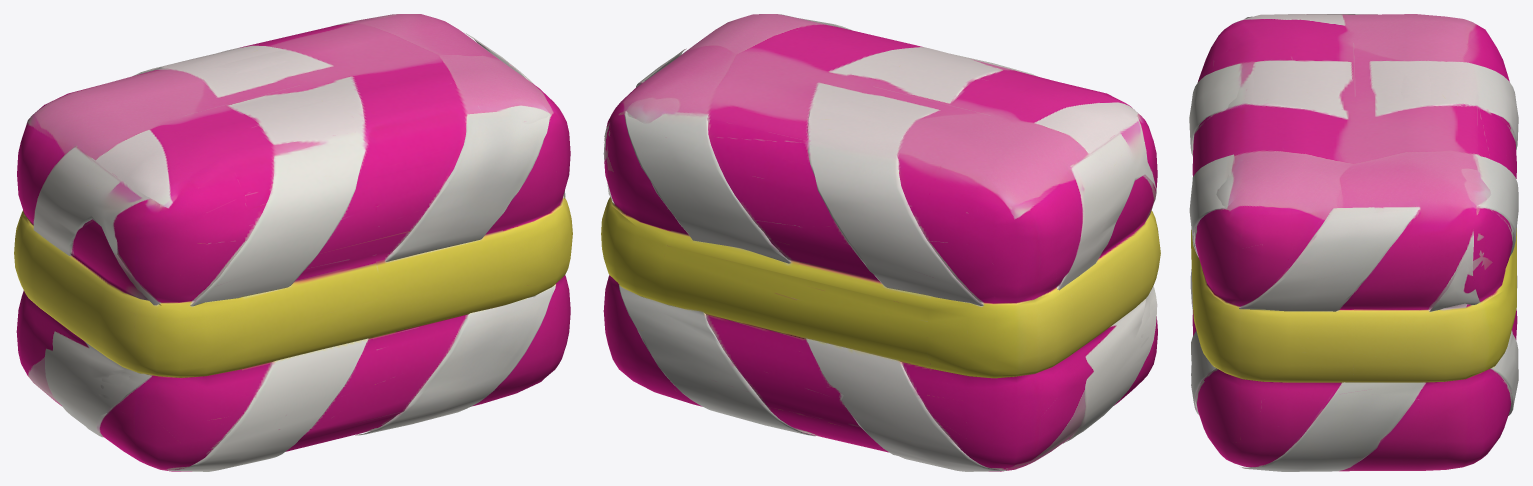
Rendered from foam_block.glb.
The picture shows the model from 3 angles, left to right: view 1: azimuth 30°, elevation 25°; view 2: azimuth 150°, elevation 25°; view 3: azimuth 270°, elevation 25°; orthographic projection. The views are drawn at different scales.
Size of the model in its own units: 0.9565 by 0.6118 by 0.6128.
1 material, 1 textured.
